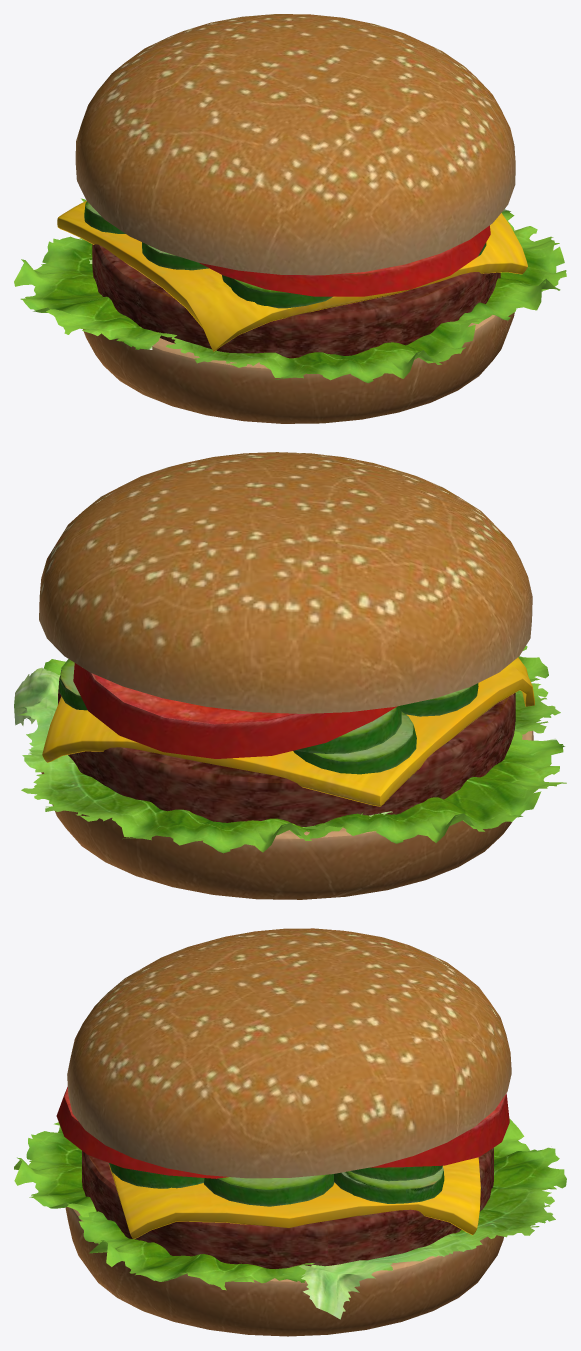
File: burger.glb
The picture shows the model from 3 angles, top to bottom: view 1: azimuth 30°, elevation 25°; view 2: azimuth 150°, elevation 25°; view 3: azimuth 270°, elevation 25°; orthographic projection. The views are drawn at different scales.
Visible parts, largest first — view 1: dish; view 2: dish; view 3: dish.
Part boxes in pixels (box(x1,y1,x2,y2)): dish: box(14, 14, 566, 423); dish: box(14, 452, 566, 899); dish: box(14, 928, 566, 1336).
Size of the model in its own units: 0.1186 by 0.0689 by 0.12.
Materials: 3 (3 with a texture image).
